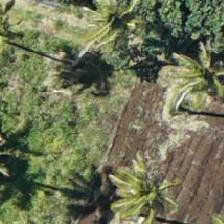coconut_tree: (104, 148, 194, 223), (67, 0, 157, 67), (159, 26, 223, 116)
